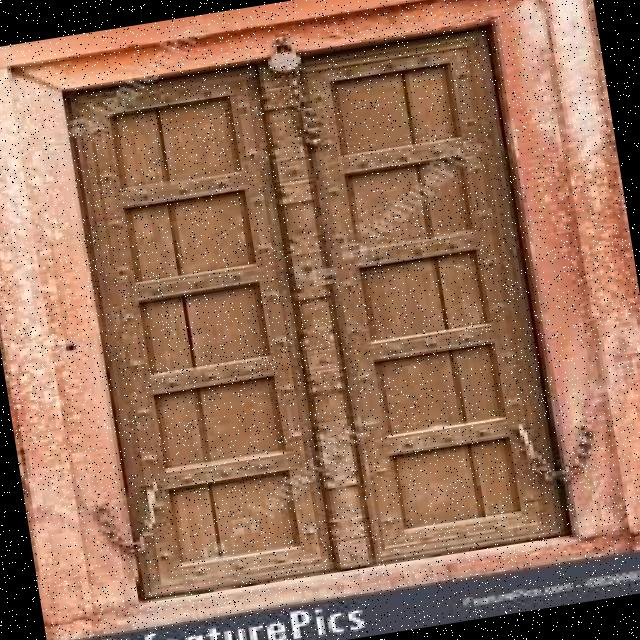Door: (54, 17, 584, 610)
